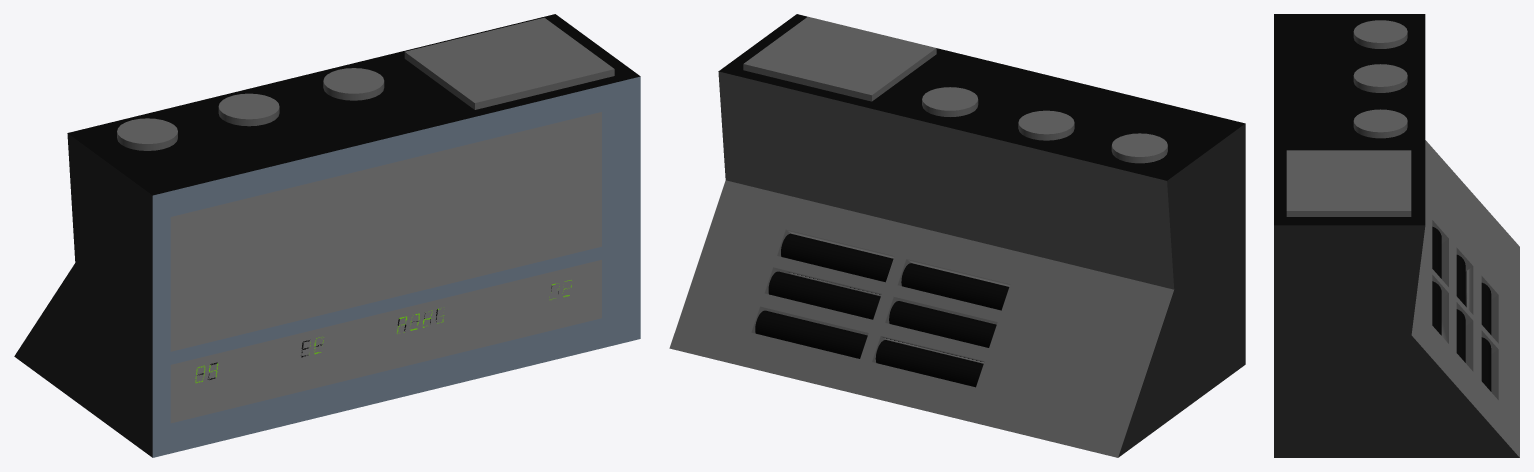
File: digital clock.fbx
3 views of the same model, side by side, from view 1: azimuth 30°, elevation 25°; view 2: azimuth 150°, elevation 25°; view 3: azimuth 270°, elevation 25° (orthographic). The views are drawn at different scales.
Parts seen in each view (by area): view 1: Group1; view 2: Group1; view 3: Group1.
Boxes of the visible parts, box(x1,y1,x2,y2) form: Group1: box(14, 14, 640, 457); Group1: box(669, 14, 1245, 457); Group1: box(1274, 14, 1519, 457).
Bounding box in the file's own units: 2.82 × 1.49 × 1.39.
